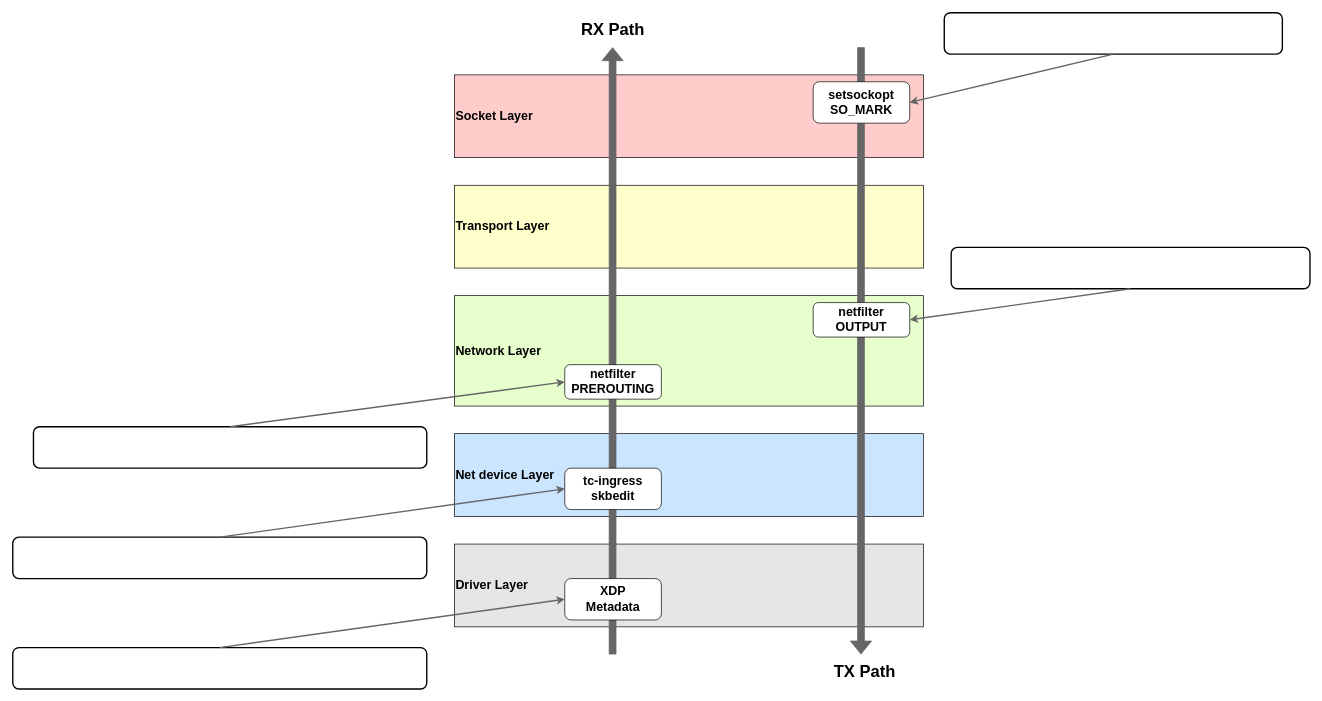
This 1322x701 diagram has some shape labels left out. The shapes that lost their labels are listed below. From the top down, each one's centre as x and y in pixels, then its label:
At (x=1113, y=33): "setsockopt(sock, SOL_SOCKET, SO_MARK, &mark, 4);".
At (x=1130, y=267): "iptables -t raw -A OUTPUT ... -j MARK --setmark 0xdeadbeef".
At (x=229, y=447): "iptables -t raw -A PREROUTING ... -j MARK --setmark 0xdeadbeef".
At (x=219, y=557): "tc filter add dev eth0 parent ffff: ... action skbedit mark 0xdeadbeef".
At (x=219, y=668): "bpf_xdp_adjust_meta(ctx, -(int)sizeof(*meta)); meta->mark = 0xdeadbeef;".
